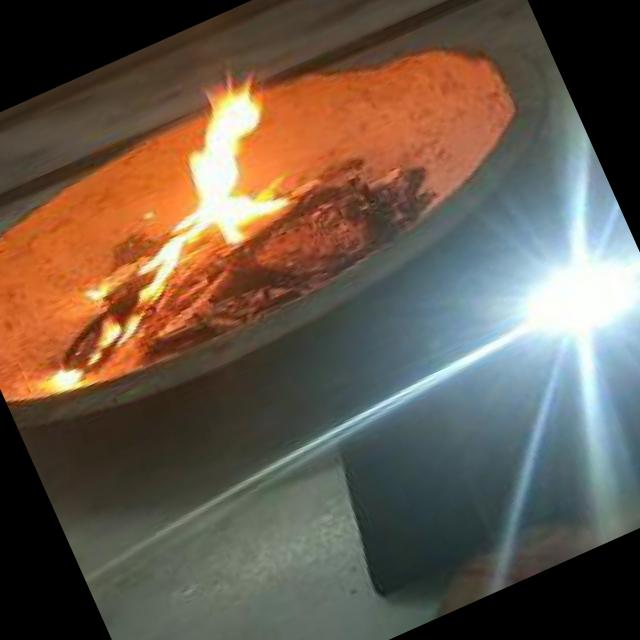fire: (0, 52, 374, 393)
